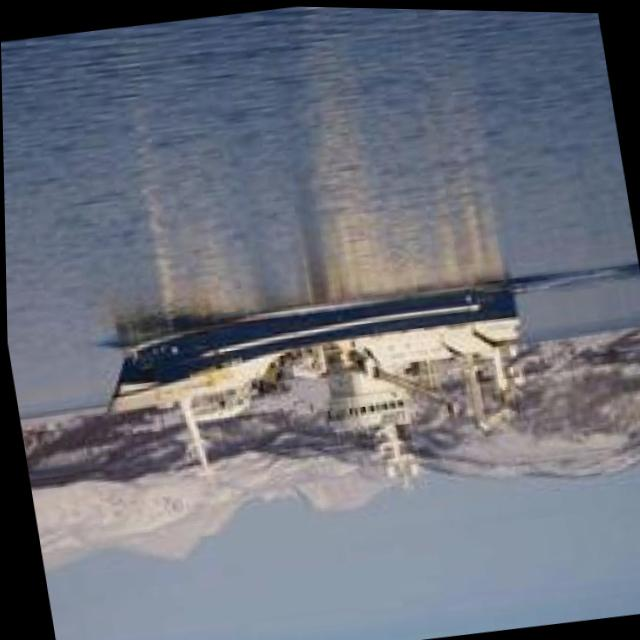ship2: (106, 284, 518, 492)
